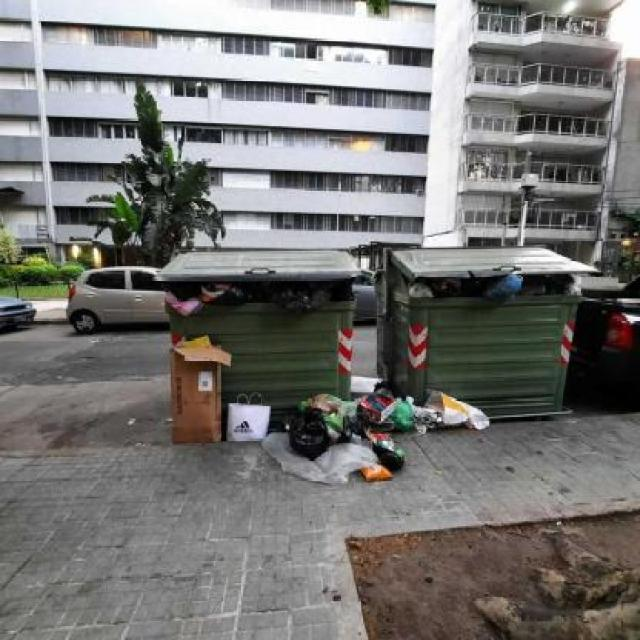garbage: (151, 337, 497, 511), (160, 274, 354, 337), (395, 276, 596, 312)
